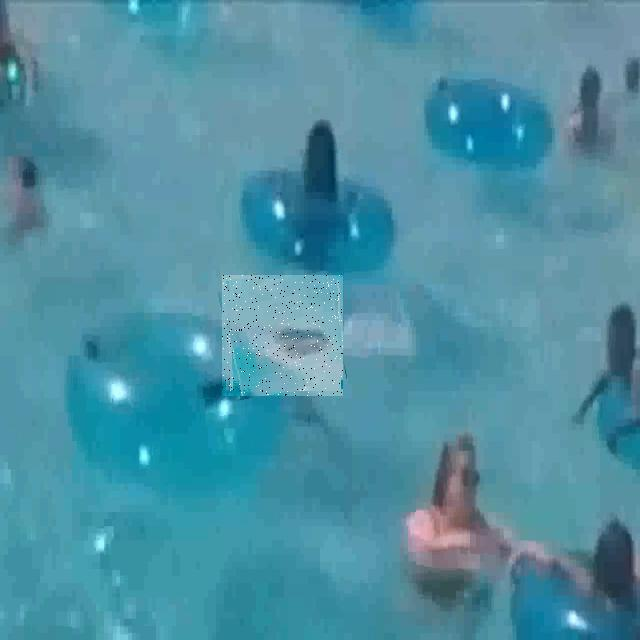Out of Water: (222, 275, 343, 396)
